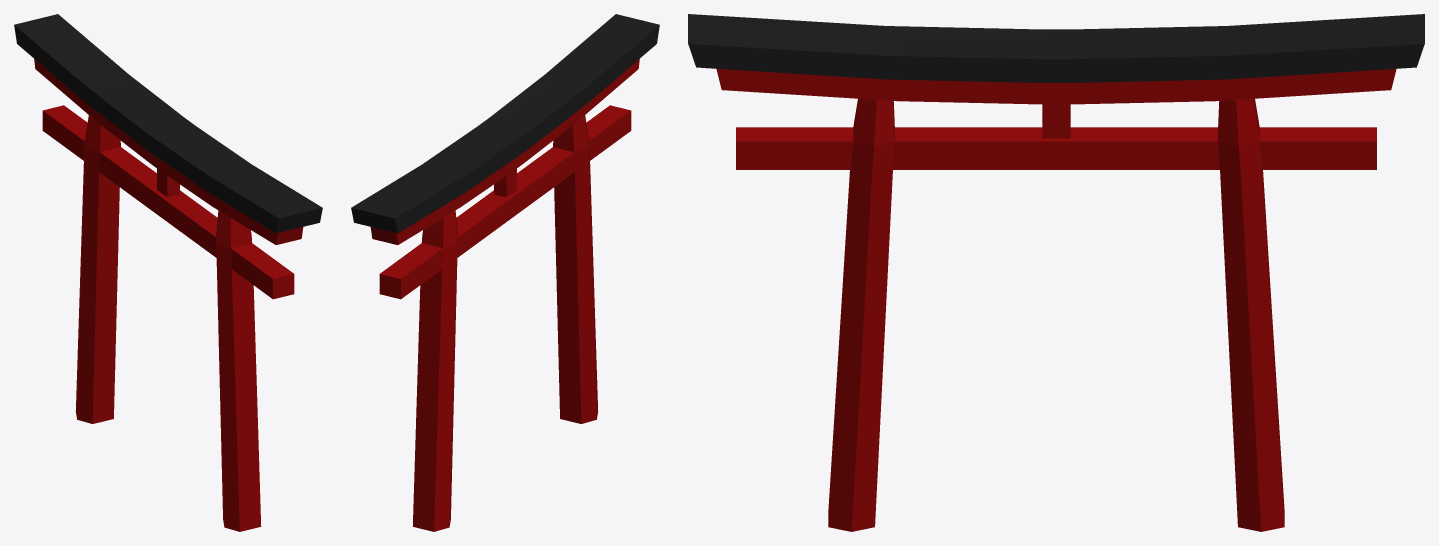
Rendered from Shrine_Gate_3.fbx.
3 views of the same model, side by side, from view 1: azimuth 30°, elevation 25°; view 2: azimuth 150°, elevation 25°; view 3: azimuth 270°, elevation 25° (orthographic). The views are drawn at different scales.
Parts seen in each view (by area): view 1: Shire_Gate_3; view 2: Shire_Gate_3; view 3: Shire_Gate_3.
Boxes of the visible parts, left/top/right/bottom form: Shire_Gate_3: left=14, top=14, right=322, bottom=531; Shire_Gate_3: left=351, top=14, right=659, bottom=531; Shire_Gate_3: left=688, top=14, right=1424, bottom=531.
Bounding box in the file's own units: 32.05 × 246 × 334.
